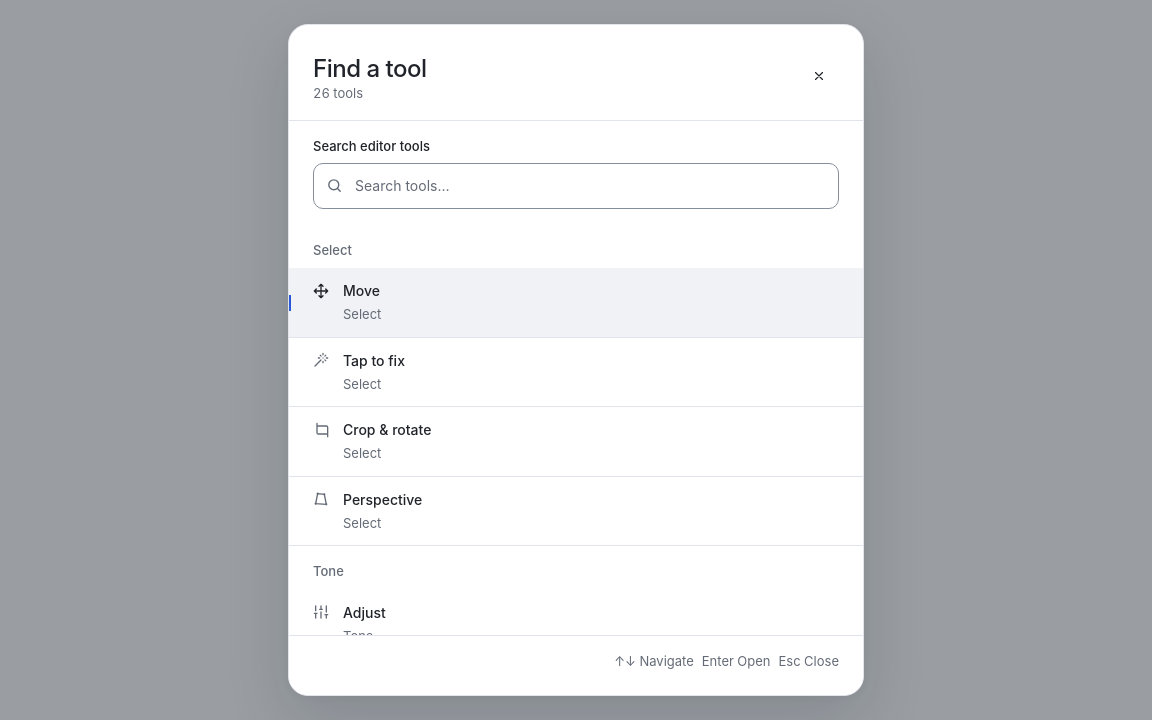
Test case: ToolSearchModal › shows an actionable empty state
The width and height of the screenshot is (1152, 720).
Type "not-a-real-tool" into the dropdown labelled "Search editor tools" at (568, 186), box [343, 167, 792, 205]
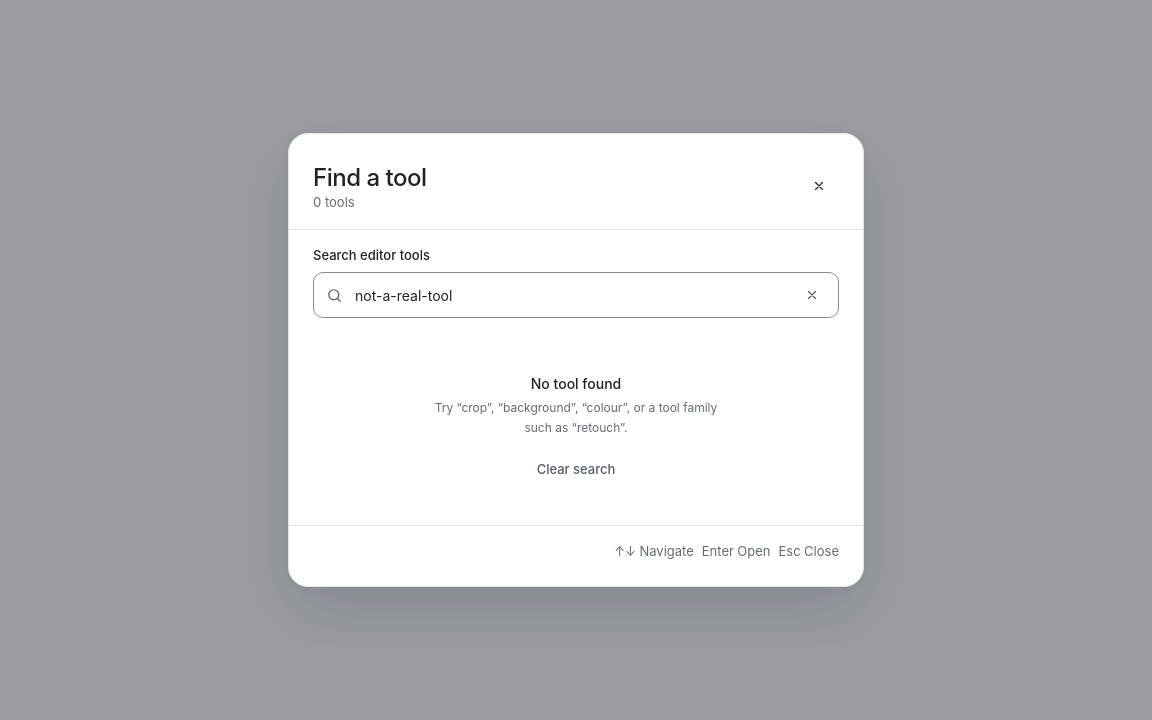
Now the text "No tool found" is shown, box [531, 374, 621, 394]
Click the button "Clear search" at (576, 469), box [524, 453, 628, 485]
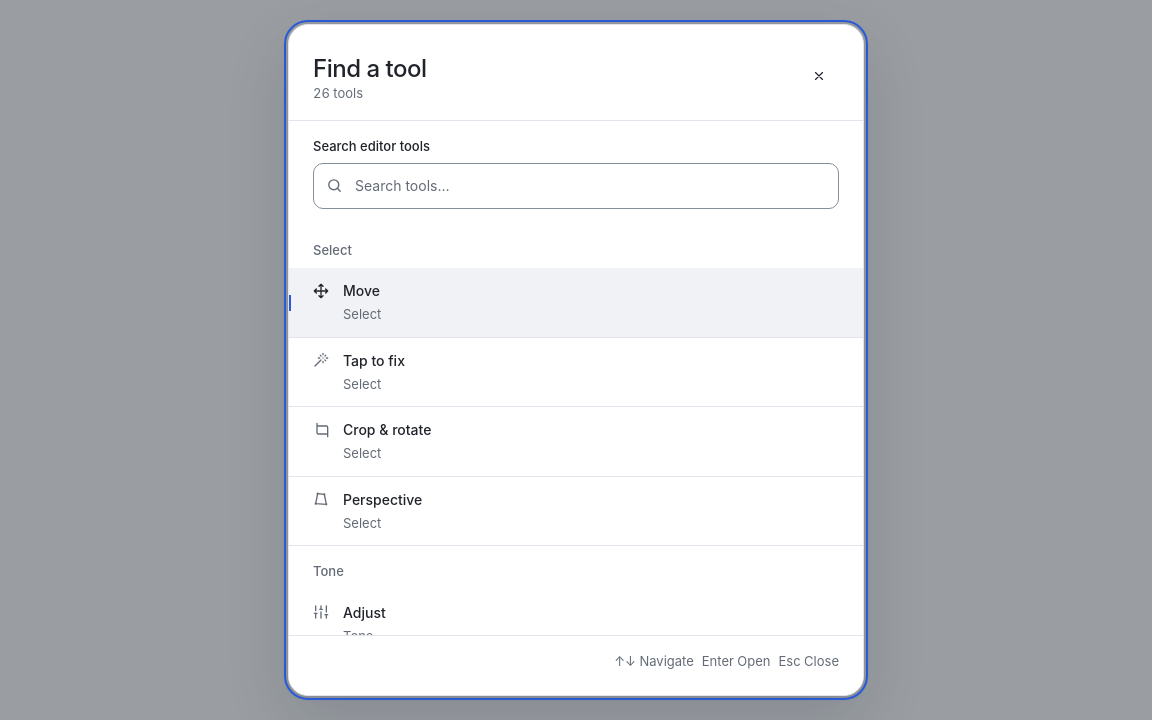
Now the text "Move" is shown, box [343, 282, 380, 299]
